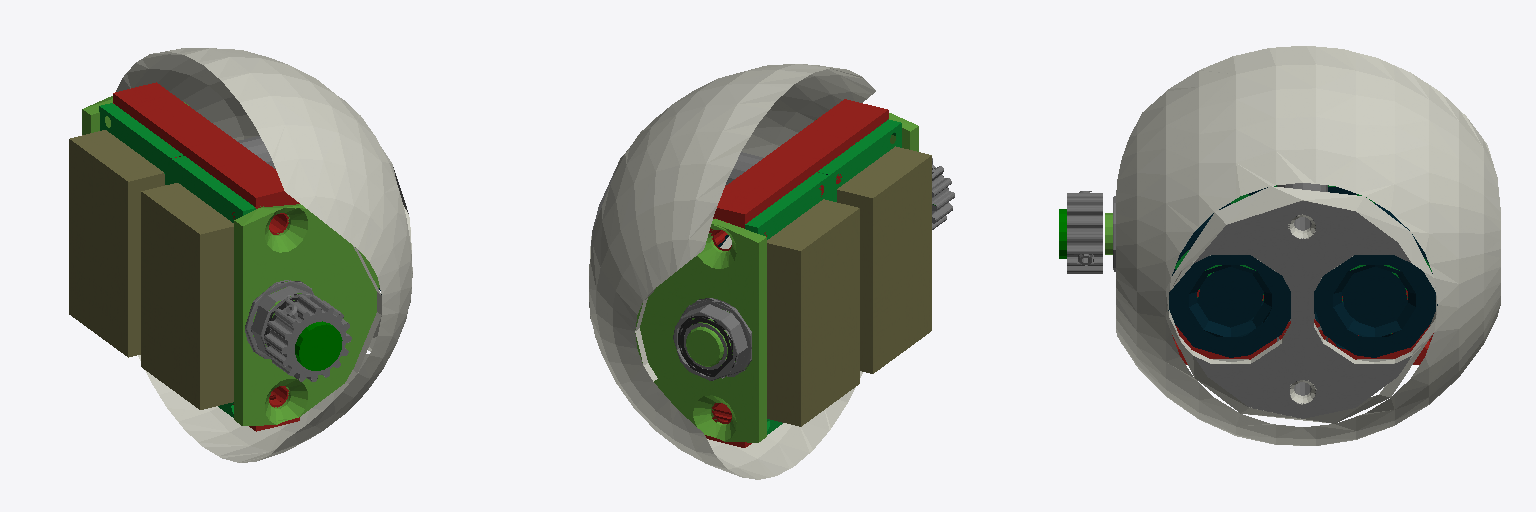
The picture shows the model from 3 angles: view 1: azimuth 30°, elevation 25°; view 2: azimuth 150°, elevation 25°; view 3: azimuth 270°, elevation 25°; orthographic projection.
Size of the model in its own units: 0.0301 by 0.05 by 0.0524.
1 materials, 1 textured.